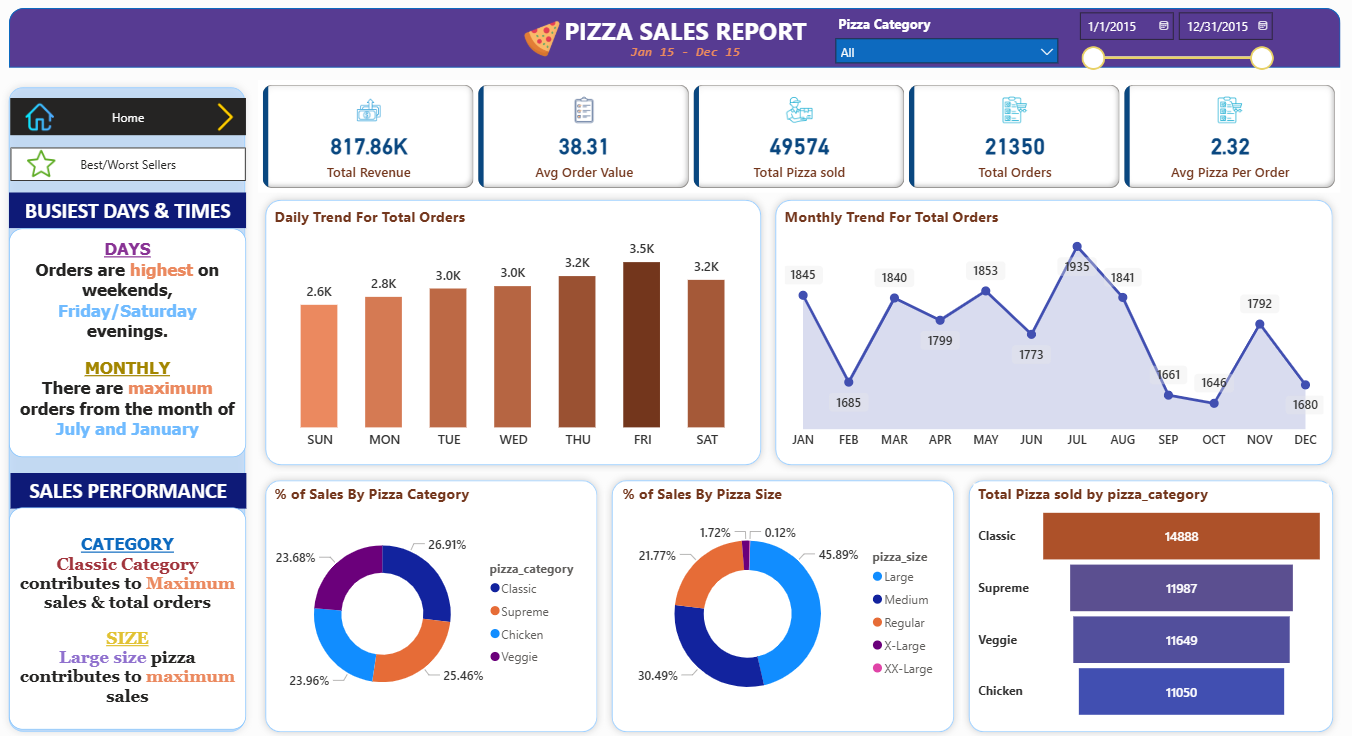

The page's visual inventory and layout, read from the dashboard file:
{"tool":"powerbi","page":{"name":"Home","canvas":[1500,820],"ordinal":0},"visuals":[{"type":"cardVisual","fields":{"Data":["pizza_sales(1).Total Revenue","pizza_sales(1).Avg Order Value","pizza_sales(1).Total Pizza sold","pizza_sales(1).Total Orders","pizza_sales(1).Avg Pizza Per Order"]},"box":[288.6,92.4,1196.1,124.5],"z":0},{"type":"shape","box":[13.2,13.2,1471.5,66],"z":1000},{"type":"textbox","box":[618.8,15.1,284.9,64.1],"z":2000},{"type":"textbox","box":[694.2,47.2,132.1,32.1],"z":3000},{"type":"image","box":[571.6,20.8,60.4,50.9],"z":4000},{"type":"shape","title":"Daily Trend For Total Orders","box":[288.6,217,564.1,309.4],"z":5000},{"type":"columnChart","title":"Daily Trend For Total Orders","fields":{"Category":["pizza_sales(1).Order Day"],"Y":["pizza_sales(1).Total Orders"]},"box":[301.8,232,537.7,277.3],"z":6000},{"type":"shape","title":"Daily Trend For Total Orders","box":[852.7,217,632,309.4],"z":7000},{"type":"areaChart","title":"Monthly Trend For Total Orders","fields":{"Y":["pizza_sales(1).Total Orders"],"Category":["pizza_sales(1).Order Month"]},"box":[865.9,232,605.6,277.3],"z":8000},{"type":"shape","title":"Daily Trend For Total Orders","box":[288.6,526.3,383,294.3],"z":9000},{"type":"shape","title":"Daily Trend For Total Orders","box":[671.6,526.3,394.3,294.3],"z":10000},{"type":"shape","title":"Daily Trend For Total Orders","box":[1065.9,526.3,418.8,294.3],"z":11000},{"type":"donutChart","title":"% of Sales By Pizza Category","fields":{"Category":["pizza_sales(1).pizza_category"],"Y":["pizza_sales(1).Total Revenue"]},"box":[301.8,539.6,356.6,266],"z":12000},{"type":"donutChart","title":"% of Sales By Pizza Size","fields":{"Category":["pizza_sales(1).pizza_size"],"Y":["pizza_sales(1).Total Revenue"]},"box":[686.7,539.6,366,266],"z":13000},{"type":"funnel","fields":{"Category":["pizza_sales(1).pizza_category"],"Y":["pizza_sales(1).Total Pizza sold"]},"box":[1079.1,539.6,392.4,266],"z":14000},{"type":"shape","title":"Daily Trend For Total Orders","box":[5.7,92.4,277.3,728.2],"z":15000},{"type":"textbox","box":[13.2,217,262.2,39.6],"z":16000},{"type":"textbox","box":[13.2,256.6,262.2,252.8],"z":17000},{"type":"textbox","box":[15.1,526.3,260.3,39.6],"z":18000},{"type":"textbox","box":[13.2,566,262.2,245.3],"z":19000},{"type":"slicer","fields":{"Values":["pizza_sales(1).pizza_category"]},"box":[916.9,15.1,266,64.1],"z":20000},{"type":"slicer","fields":{"Values":["pizza_sales(1).order_date"]},"box":[1182.9,7.5,235.8,77.3],"z":21000},{"type":"pageNavigator","box":[15.1,113.2,260.3,41.5],"z":21001},{"type":"pageNavigator","box":[15.1,167.9,260.3,37.7],"z":21002},{"type":"image","box":[228.3,113.2,47.2,41.5],"z":21003},{"type":"image","box":[15.1,113.2,64.1,41.5],"z":21004},{"type":"image","box":[22.6,164.1,50.9,41.5],"z":21005}]}

Visuals, with their boxes in screenshot pixels (x1, y1, x2, y2), scaled from the page's 1500x820 canvas onto the 1352x736 screenshot:
cardVisual - pizza_sales(1).Total Revenue x pizza_sales(1).Avg Order Value: 260/83/1338/195
shape: 12/12/1338/71
textbox: 558/14/815/71
textbox: 626/42/745/71
image: 515/19/570/64
"Daily Trend For Total Orders" shape: 260/195/769/472
"Daily Trend For Total Orders" columnChart: 272/208/757/457
"Daily Trend For Total Orders" shape: 769/195/1338/472
"Monthly Trend For Total Orders" areaChart: 780/208/1326/457
"Daily Trend For Total Orders" shape: 260/472/605/735
"Daily Trend For Total Orders" shape: 605/472/961/735
"Daily Trend For Total Orders" shape: 961/472/1338/735
"% of Sales By Pizza Category" donutChart: 272/484/593/723
"% of Sales By Pizza Size" donutChart: 619/484/949/723
funnel - pizza_sales(1).pizza_category x pizza_sales(1).Total Pizza sold: 973/484/1326/723
"Daily Trend For Total Orders" shape: 5/83/255/735
textbox: 12/195/248/230
textbox: 12/230/248/457
textbox: 14/472/248/508
textbox: 12/508/248/728
slicer - pizza_sales(1).pizza_category: 826/14/1066/71
slicer - pizza_sales(1).order_date: 1066/7/1279/76
pageNavigator: 14/102/248/139
pageNavigator: 14/151/248/185
image: 206/102/248/139
image: 14/102/71/139
image: 20/147/66/185
